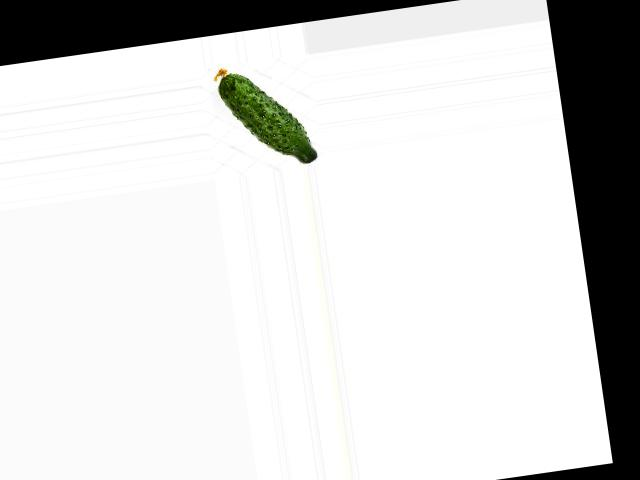cucumber: (213, 56, 318, 173)
